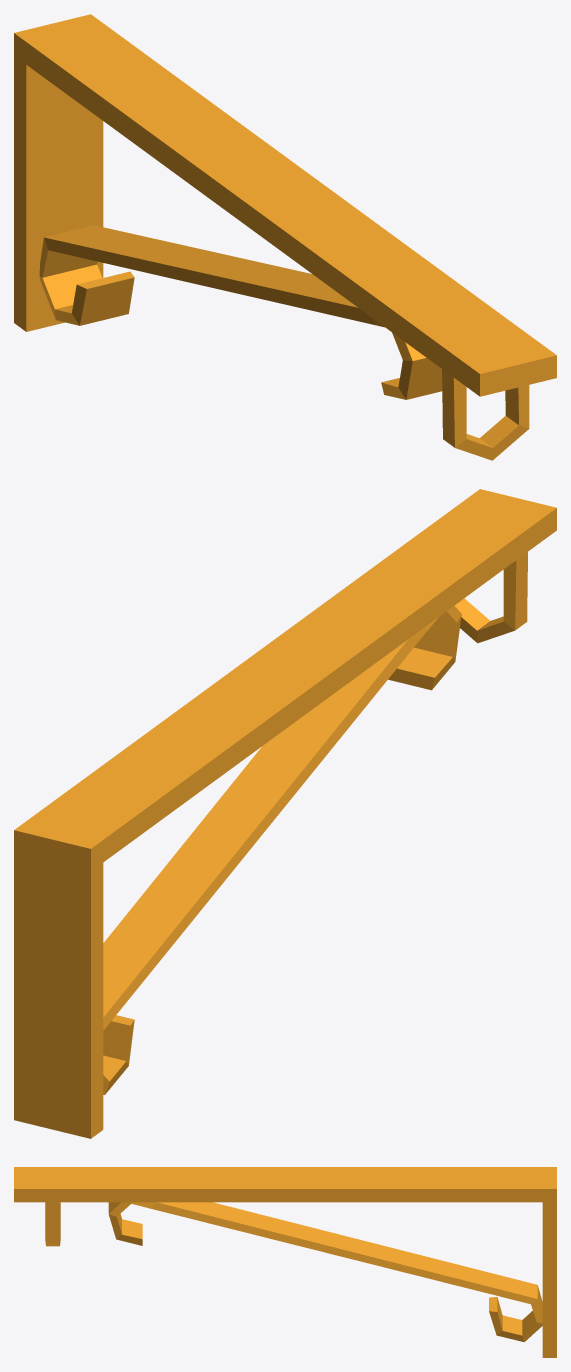
File: SM_Flowerpot_Hanger.fbx
3 renders of one model, top to bottom at view 1: azimuth 30°, elevation 25°; view 2: azimuth 150°, elevation 25°; view 3: azimuth 270°, elevation 25°, orthographic. The views are drawn at different scales.
Visible parts, largest first — view 1: SM_Flowerpot_Hanger; view 2: SM_Flowerpot_Hanger; view 3: SM_Flowerpot_Hanger.
Boxes of the visible parts, x1,y1,x2,y2 form: SM_Flowerpot_Hanger: (14,14,556,460); SM_Flowerpot_Hanger: (14,489,556,1138); SM_Flowerpot_Hanger: (14,1167,556,1357).
Bounding box in the file's own units: 0.0788 × 0.2839 × 0.8271.
